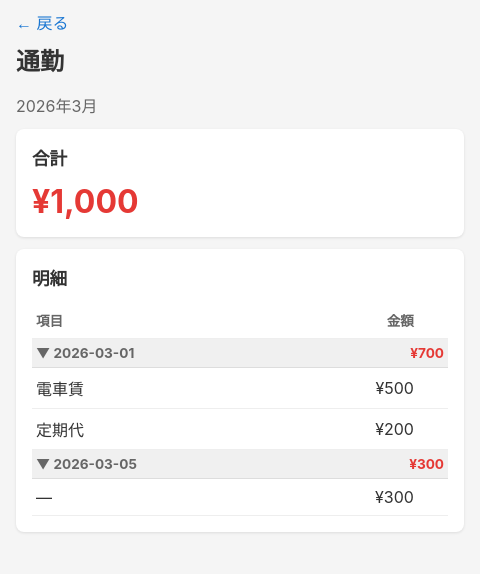
TagDetails › 行をクリックすると編集モードになる
Click the text "電車賃". click: click(137, 388)
box: x1=32 y1=368 x2=242 y2=408
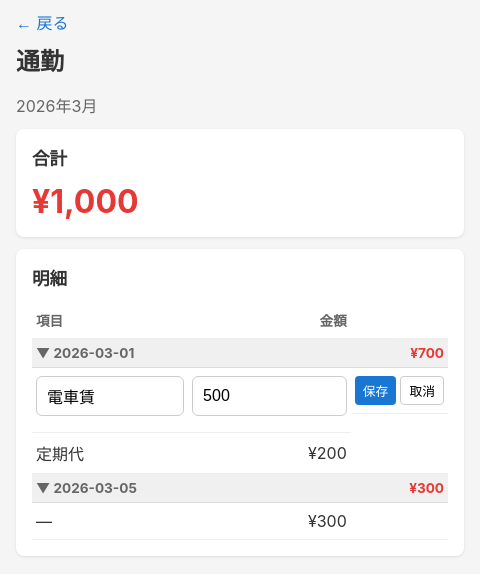
Result: the field showing "電車賃" is shown at x1=36 y1=376 x2=184 y2=416
Result: the number field showing "500" is shown at x1=192 y1=376 x2=347 y2=416
Result: the button "保存" is shown at x1=355 y1=376 x2=396 y2=405
